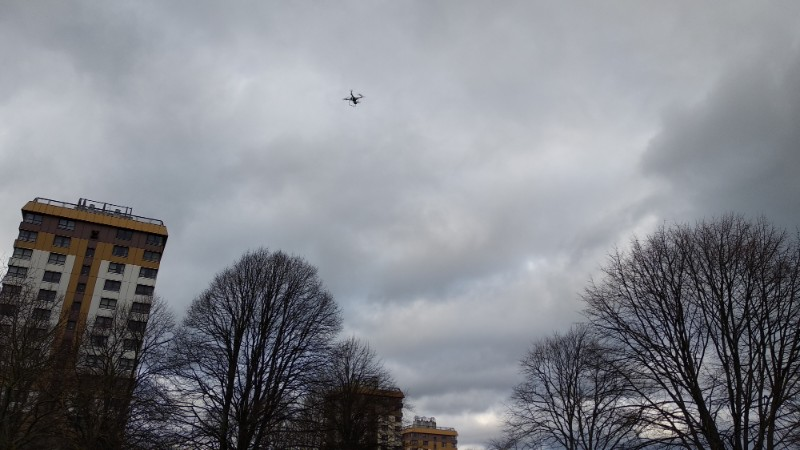drone: (344, 91, 365, 107)
